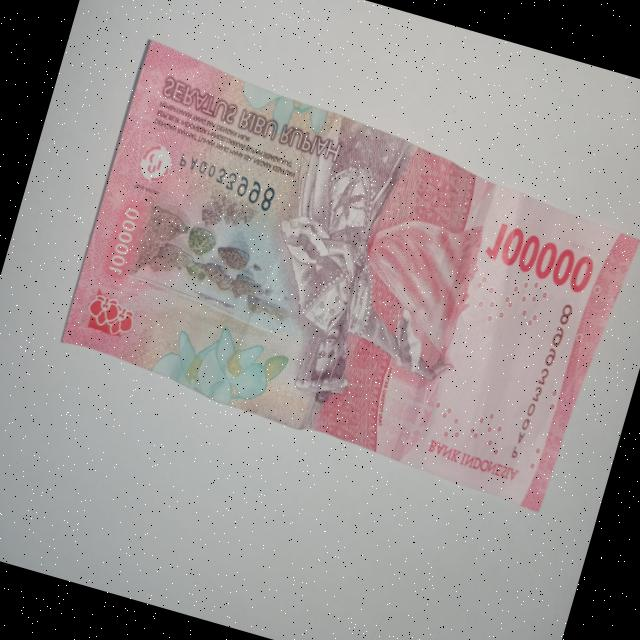100K: (36, 30, 640, 526)
